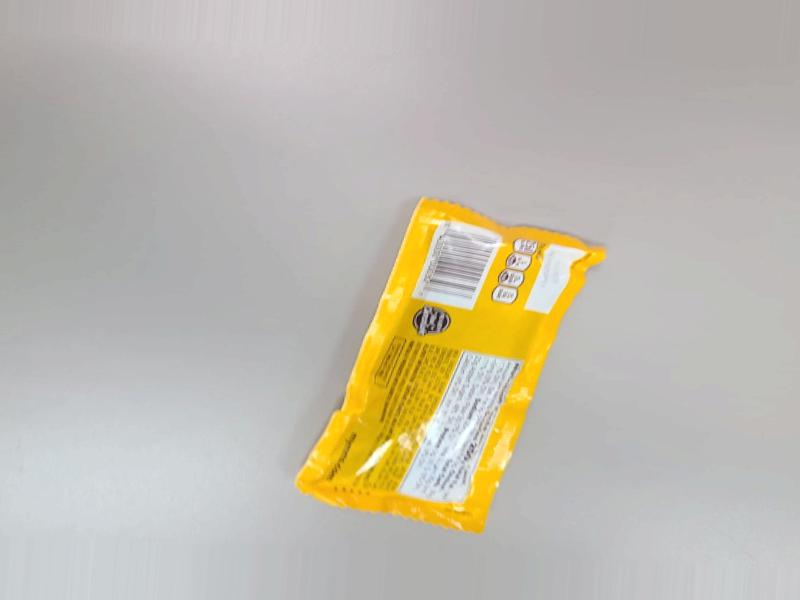m&m: (298, 209, 612, 544)
